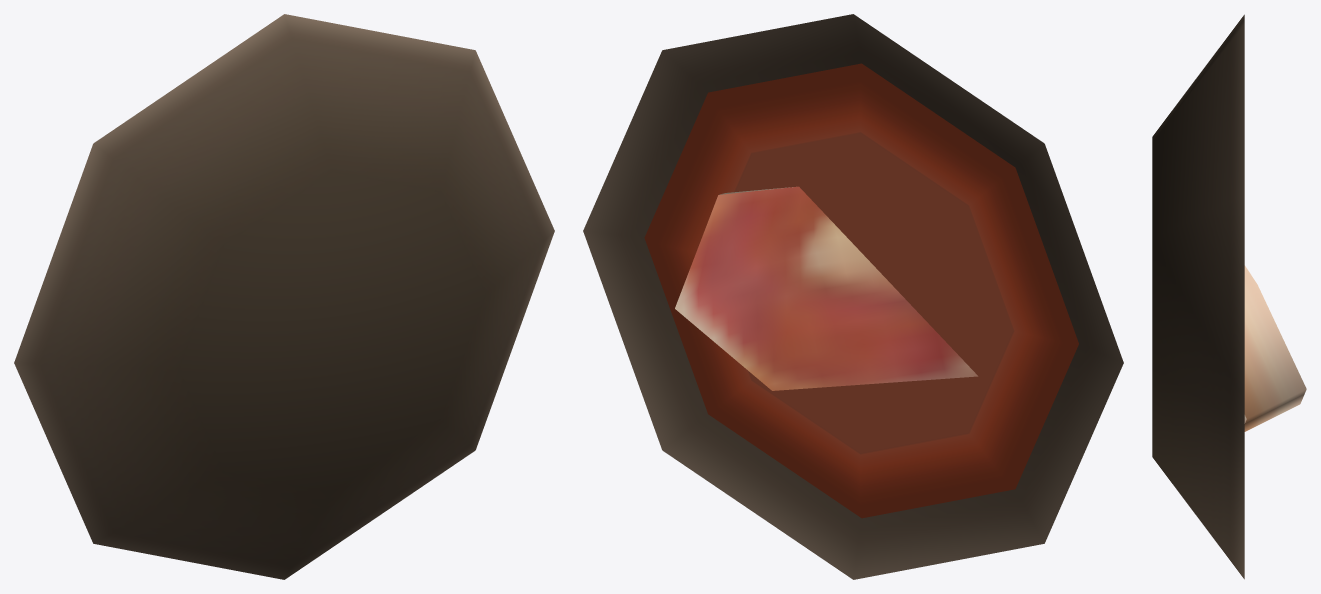
Rendered from Plate_Soup_A.fbx.
The picture shows the model from 3 angles, left to right: view 1: azimuth 30°, elevation 25°; view 2: azimuth 150°, elevation 25°; view 3: azimuth 270°, elevation 25°; orthographic projection. The views are drawn at different scales.
Visible parts, largest first — view 1: Plate_Soup_A; view 2: Plate_Soup_A; view 3: Plate_Soup_A.
Part boxes in pixels (x1,y1,x2,y2): Plate_Soup_A: [14, 14, 554, 579]; Plate_Soup_A: [583, 14, 1123, 579]; Plate_Soup_A: [1152, 14, 1306, 579].
Size of the model in its own units: 0.5336 by 0.5336 by 0.1369.
